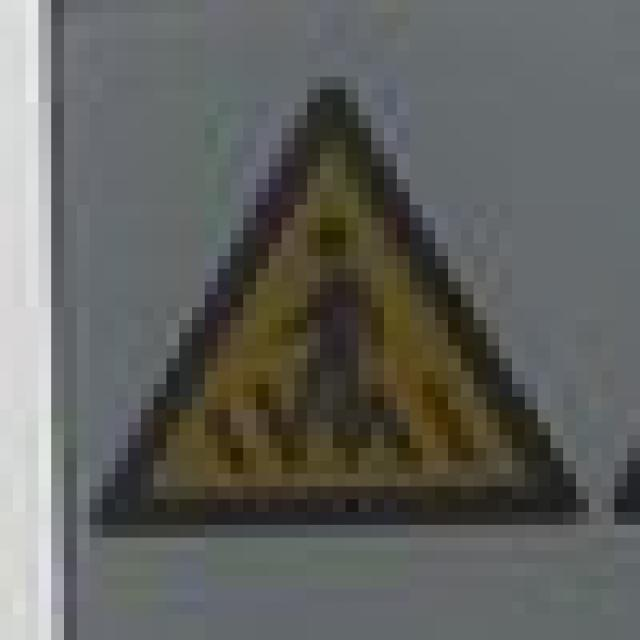pass_either_side: (77, 64, 576, 525)
